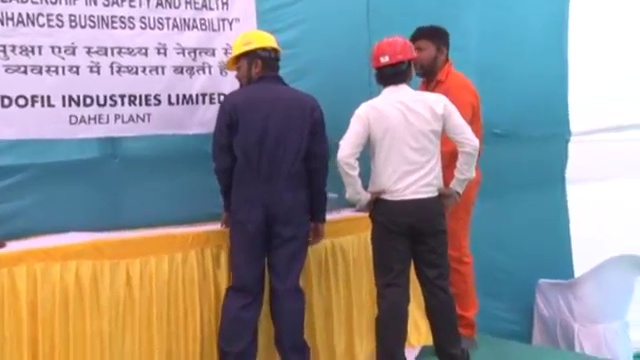helmet: (225, 29, 285, 70), (368, 34, 419, 70)
helmet_off: (411, 25, 454, 81)
helmet_on: (224, 27, 286, 87), (367, 34, 419, 90)
person: (337, 34, 480, 360), (212, 28, 330, 360), (411, 25, 485, 354)
